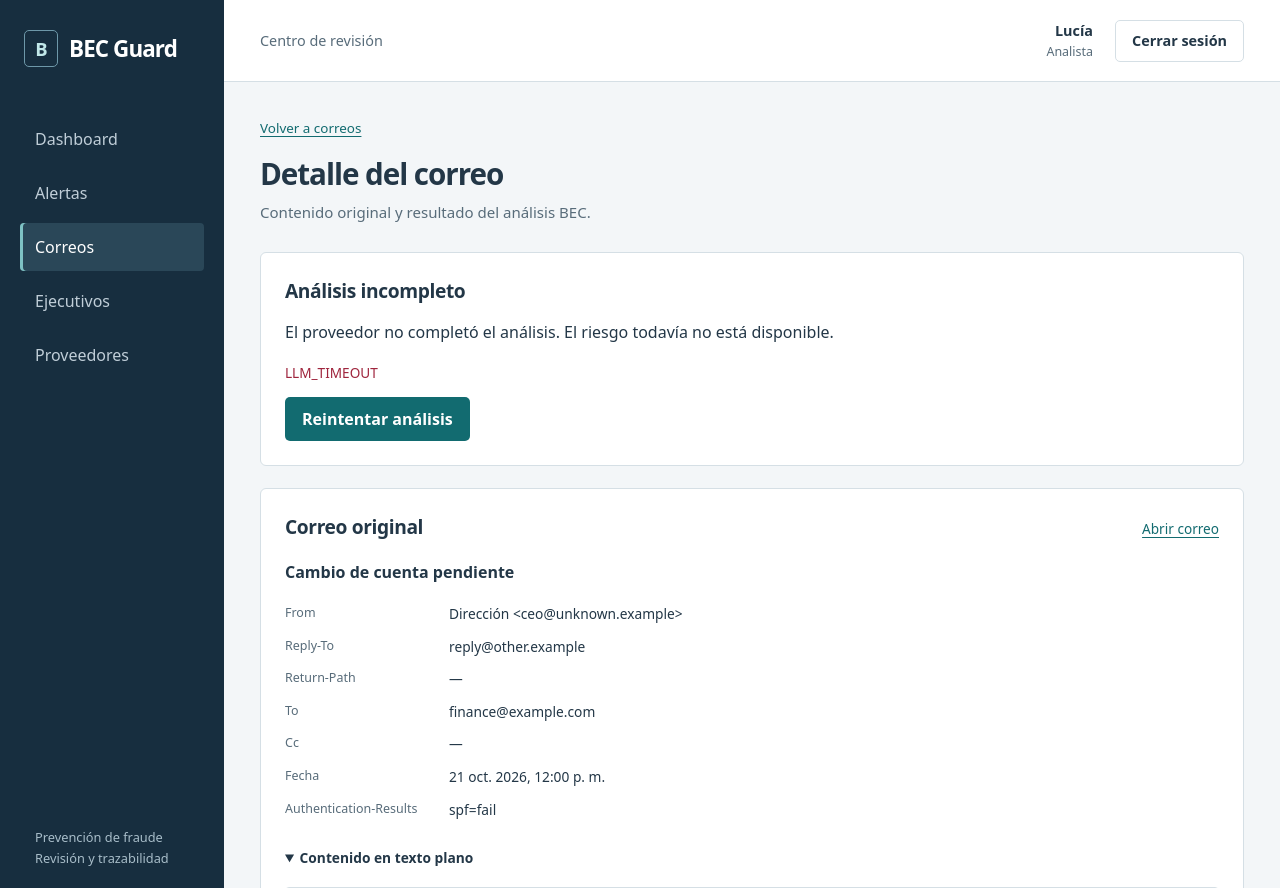
Test: retry ERROR updates the persisted analysis
Expected: the text "LLM_TIMEOUT" is shown, [285, 363, 378, 382]
Click the button "Reintentar análisis" at point(377, 419), box [285, 397, 470, 441]
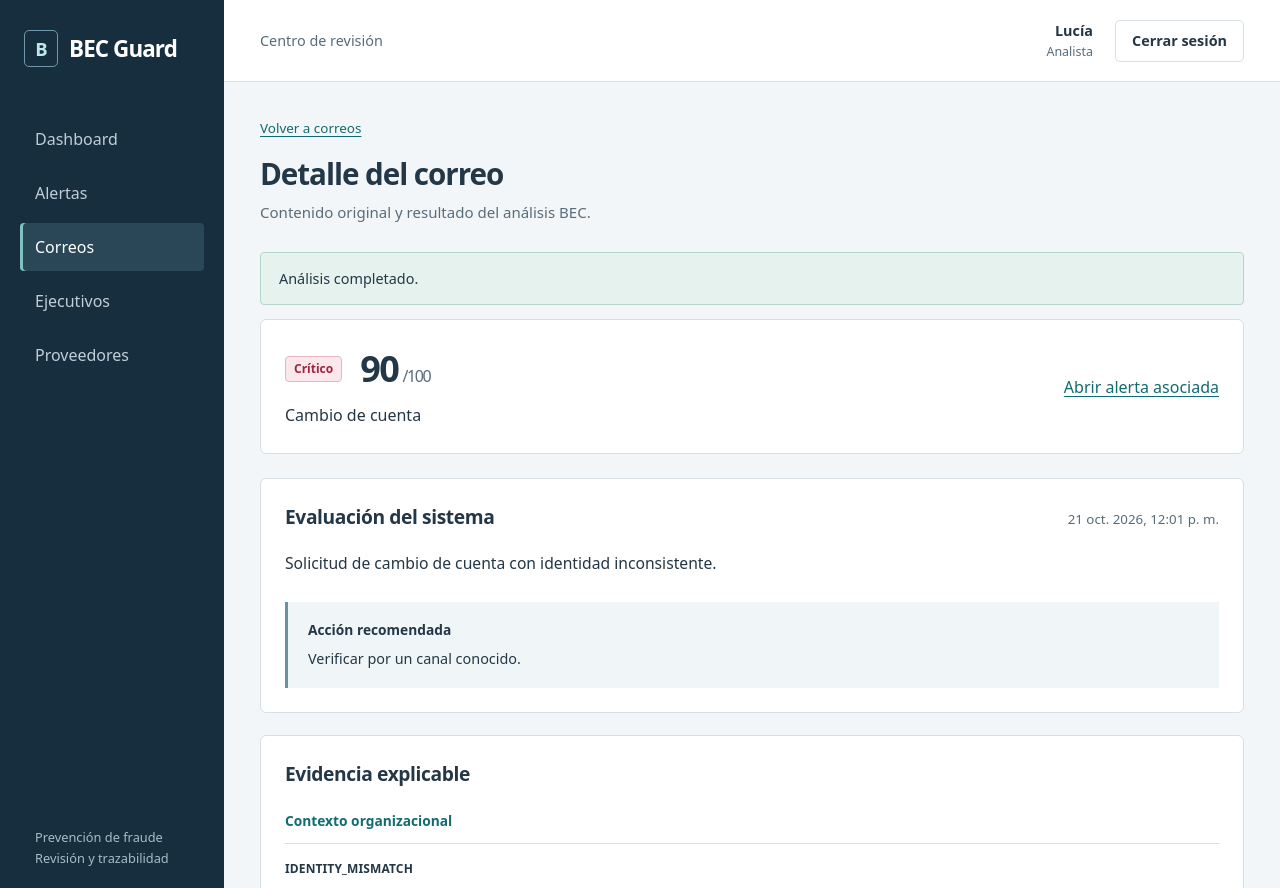
Expected: the text "Solicitud de cambio de cuenta con identidad inconsistente." is shown, [285, 552, 716, 574]
